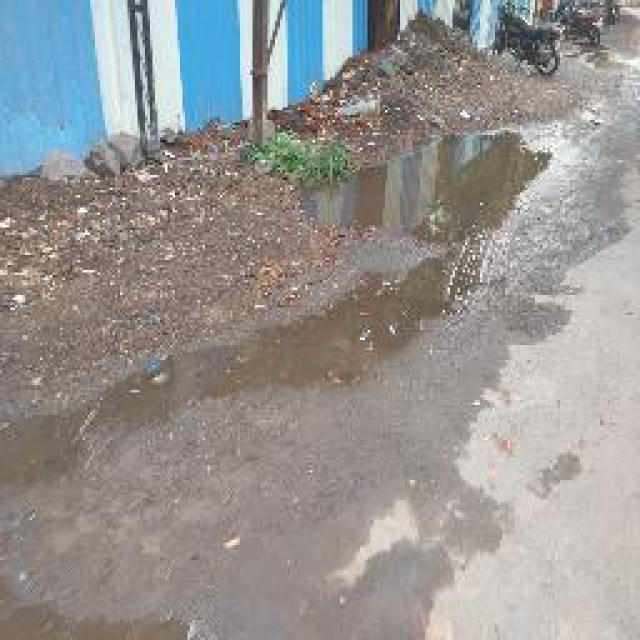puddle: (314, 129, 562, 245)
